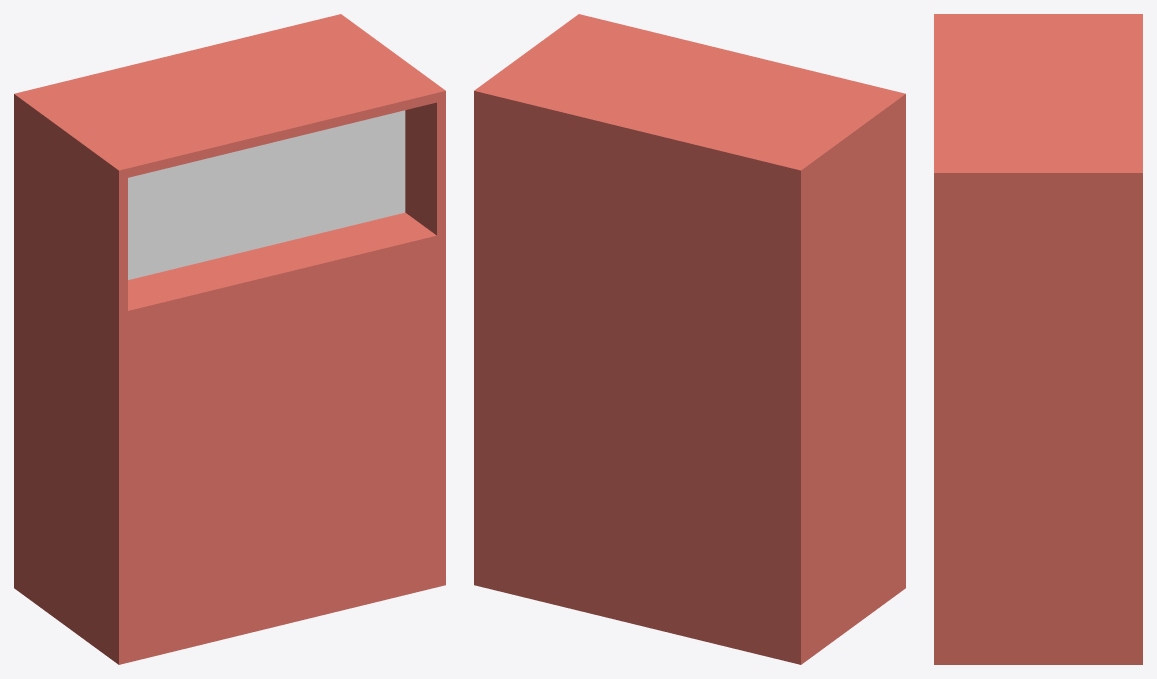
File: nil_link_mesh.dae
3 views of the same model, side by side, from view 1: azimuth 30°, elevation 25°; view 2: azimuth 150°, elevation 25°; view 3: azimuth 270°, elevation 25° (orthographic).
Parts seen in each view (by area): view 1: nil_link (×2); view 2: nil_link; view 3: nil_link.
Boxes of the visible parts, x1,y1,x2,y2 form: nil_link (×2): (14, 14, 445, 664); nil_link: (474, 14, 905, 664); nil_link: (934, 14, 1142, 664).
Size of the model in its own units: 0.18 by 0.26 by 0.1.
